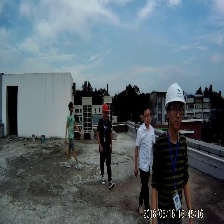helmet: (164, 82, 188, 107), (101, 102, 111, 113)
no-helmet: (143, 106, 151, 118), (66, 101, 75, 111)
no-vest: (160, 130, 187, 196), (139, 122, 155, 167), (100, 117, 111, 150), (68, 111, 76, 133)
person: (153, 80, 190, 213), (134, 106, 154, 217), (95, 104, 114, 190), (64, 100, 82, 171)
